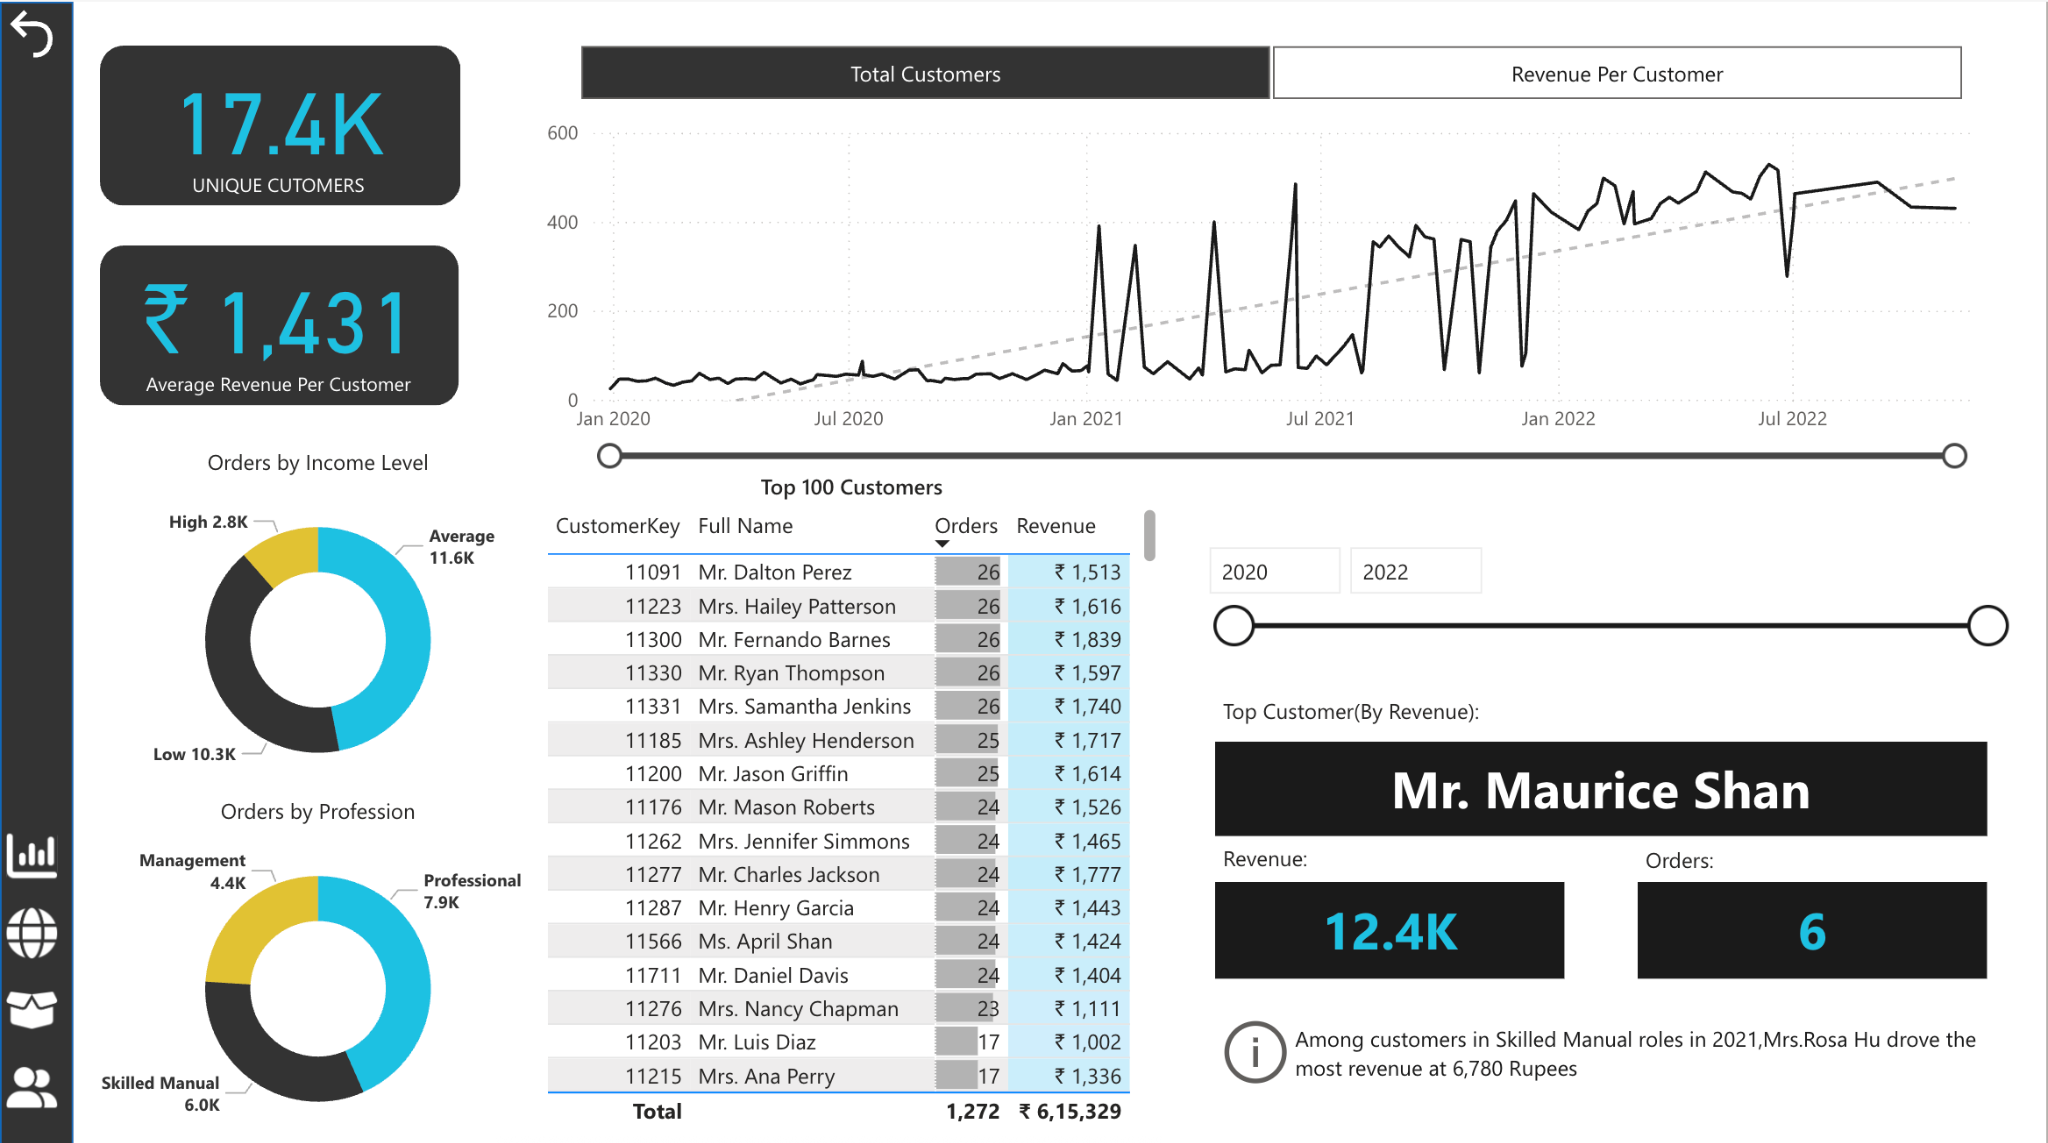

This screenshot's page, from the dashboard's own definition file:
{"tool":"powerbi","page":{"name":"Customer Details","canvas":[1280,720],"ordinal":7},"visuals":[{"type":"shape","box":[0,0,45.8,719],"z":0},{"type":"actionButton","box":[0,513.9,45.8,39.8],"z":1000,"group":"g1"},{"type":"shape","box":[62,27.8,225.6,100.1],"z":1000},{"type":"actionButton","box":[0,610.4,45.8,39.8],"z":2000,"group":"g1"},{"type":"shape","box":[62,152.5,224.4,100.1],"z":2000},{"type":"card","fields":{"Values":["Measure Table.Average Revenue Per Customer"]},"box":[43.4,124.3,260.6,155.6],"z":3000},{"type":"actionButton","box":[0,658.7,45.8,39.8],"z":3000,"group":"g1"},{"type":"card","fields":{"Values":["Measure Table.Total Customers"]},"box":[43.4,0,260.6,154.4],"z":4000},{"type":"actionButton","box":[0,562.2,45.8,39.8],"z":4000,"group":"g1"},{"type":"lineChart","title":"Total Customers","fields":{"Y":["Measure Table.Total Customers"],"Category":["Calendar Lookup.Start of Week.Variation.Date Hierarchy.Year","Calendar Lookup.Start of Week.Variation.Date Hierarchy.Quarter","Calendar Lookup.Start of Week.Variation.Date Hierarchy.Month","Calendar Lookup.Start of Week.Variation.Date Hierarchy.Day"]},"box":[336.6,67.6,913.3,226.8],"z":5000},{"type":"donutChart","title":"Orders by Income Level","fields":{"Category":["Customer Lookup.Income Level"],"Y":["Measure Table.Total Orders"]},"box":[61.5,278.7,275.1,223.2],"z":6000},{"type":"donutChart","title":"Orders by Profession","fields":{"Y":["Measure Table.Total Orders"],"Category":["Customer Lookup.Occupation"]},"box":[61.5,497.1,275.1,223.2],"z":7000},{"type":"tableEx","title":"Top 100 Customers","fields":{"Values":["Customer Lookup.CustomerKey","Customer Lookup.Full Name","Measure Table.Total Orders","Measure Table.Total Revenue"]},"box":[336.6,294.4,392.1,413.8],"z":8000},{"type":"card","fields":{"Values":["Customer Lookup.Full Name (Customer Details)"]},"box":[760,463.2,482.8,59],"z":9000},{"type":"card","fields":{"Values":["Measure Table.Total Revenue (Customer Details)"]},"box":[760,550.3,218.5,60.5],"z":10000},{"type":"card","fields":{"Values":["Measure Table.Total Orders (Customer Details)"]},"box":[1024.2,550.3,218.5,60.5],"z":11000},{"type":"textbox","box":[759.6,429,179.8,33.8],"z":12000},{"type":"textbox","box":[759.6,521.4,90.5,41],"z":13000},{"type":"textbox","box":[1024.2,522.3,69.4,39.9],"z":14000},{"type":"slicer","fields":{"Values":["Calendar Lookup.Year"]},"box":[743.2,331.8,521.2,100.1],"z":15000},{"type":"actionButton","box":[0,0,45.8,39.8],"z":16000},{"type":"actionButton","box":[760.1,632.2,482.6,50.7],"z":17000},{"type":"group","id":"g1","title":"Navigation Buttons","box":[0,513.9,45.8,184.6],"z":18000},{"type":"slicer","fields":{"Values":["Customer Metric Selection.Customer Metric Selection"]},"box":[337.8,20.5,913.3,47],"z":19000}]}

Visuals, with their boxes on the page's 1280x720 design canvas (x1, y1, x2, y2). These are canvas units, not pixel positions in the 2048x1143 screenshot, which may show the page scaled, cropped or inside an application window:
shape: bbox=[0, 0, 46, 719]
actionButton: bbox=[0, 514, 46, 554]
shape: bbox=[62, 28, 288, 128]
actionButton: bbox=[0, 610, 46, 650]
shape: bbox=[62, 152, 286, 253]
card - Measure Table.Average Revenue Per Customer: bbox=[43, 124, 304, 280]
actionButton: bbox=[0, 659, 46, 698]
card - Measure Table.Total Customers: bbox=[43, 0, 304, 154]
actionButton: bbox=[0, 562, 46, 602]
"Total Customers" lineChart: bbox=[337, 68, 1250, 294]
"Orders by Income Level" donutChart: bbox=[62, 279, 337, 502]
"Orders by Profession" donutChart: bbox=[62, 497, 337, 720]
"Top 100 Customers" tableEx: bbox=[337, 294, 729, 708]
card - Customer Lookup.Full Name (Customer Details): bbox=[760, 463, 1243, 522]
card - Measure Table.Total Revenue (Customer Details): bbox=[760, 550, 978, 611]
card - Measure Table.Total Orders (Customer Details): bbox=[1024, 550, 1243, 611]
textbox: bbox=[760, 429, 939, 463]
textbox: bbox=[760, 521, 850, 562]
textbox: bbox=[1024, 522, 1094, 562]
slicer - Calendar Lookup.Year: bbox=[743, 332, 1264, 432]
actionButton: bbox=[0, 0, 46, 40]
actionButton: bbox=[760, 632, 1243, 683]
"Navigation Buttons" group: bbox=[0, 514, 46, 698]
slicer - Customer Metric Selection.Customer Metric Selection: bbox=[338, 20, 1251, 68]
